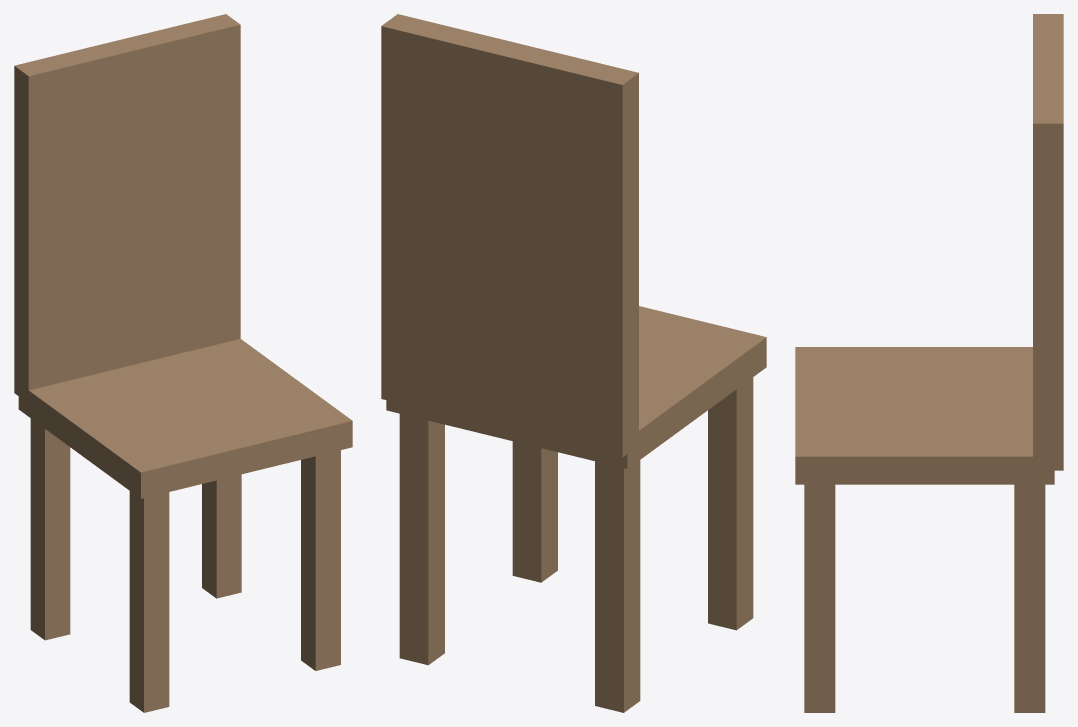
The model's file is chair.glb.
3 renders of one model, left to right at view 1: azimuth 30°, elevation 25°; view 2: azimuth 150°, elevation 25°; view 3: azimuth 270°, elevation 25°, orthographic. The views are drawn at different scales.
Visible parts, largest first — view 1: Cube.001, Cube, Cube.002, Cube.004, Cube.003, Cube.005; view 2: Cube.001, Cube, Cube.003, Cube.005, Cube.002, Cube.004; view 3: Cube, Cube.001, Cube.004, Cube.005.
Boxes of the visible parts, x1=… form: Cube.001: x1=14, y1=14, x2=240, y2=395; Cube: x1=18, y1=339, x2=352, y2=498; Cube.002: x1=129, y1=491, x2=169, y2=712; Cube.004: x1=301, y1=450, x2=340, y2=670; Cube.003: x1=30, y1=418, x2=70, y2=640; Cube.005: x1=202, y1=474, x2=241, y2=598; Cube.001: x1=381, y1=14, x2=638, y2=457; Cube: x1=386, y1=306, x2=766, y2=468; Cube.003: x1=595, y1=460, x2=640, y2=712; Cube.005: x1=399, y1=413, x2=444, y2=665; Cube.002: x1=708, y1=377, x2=753, y2=630; Cube.004: x1=512, y1=441, x2=557, y2=582; Cube: x1=795, y1=347, x2=1054, y2=484; Cube.001: x1=1033, y1=14, x2=1063, y2=470; Cube.004: x1=804, y1=484, x2=835, y2=712; Cube.005: x1=1014, y1=484, x2=1045, y2=712.
Bounding box in the file's own units: 0.42 × 1.06 × 0.435.
